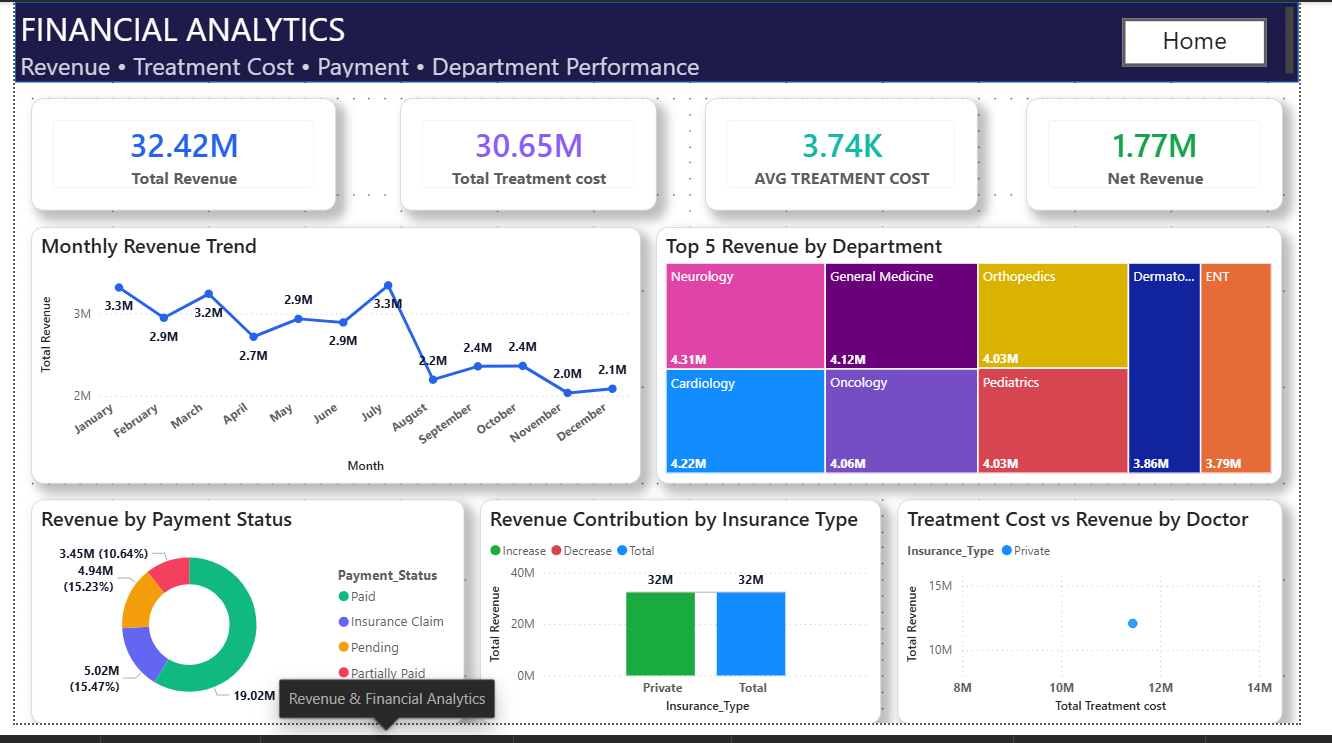

The page's visual inventory and layout, read from the dashboard file:
{"tool":"powerbi","page":{"name":"Revenue & Financial Analytics","canvas":[1280,720],"ordinal":2},"visuals":[{"type":"shape","box":[0,0,1280,80],"z":0},{"type":"textbox","box":[0,0,1280,80],"z":1000},{"type":"cardVisual","fields":{"Data":["healthcare_ai_etl healthcare_clean.Total Revenue"]},"box":[16,96,304,112],"z":2000},{"type":"cardVisual","fields":{"Data":["healthcare_ai_etl healthcare_clean.Total Treatment cost"]},"box":[384,96,256,112],"z":3000},{"type":"cardVisual","fields":{"Data":["healthcare_ai_etl healthcare_clean.AVG TREATMENT COST"]},"box":[688,96,272,112],"z":4000},{"type":"cardVisual","fields":{"Data":["healthcare_ai_etl etl_quality_log.Net Revenue"]},"box":[1008,96,256,112],"z":5000},{"type":"lineChart","title":"Monthly Revenue Trend","fields":{"Category":["healthcare_ai_etl healthcare_clean.Admission_Date.Variation.Date Hierarchy.Month"],"Y":["healthcare_ai_etl healthcare_clean.Total Revenue"]},"box":[16,224,608,256],"z":6000},{"type":"treemap","title":"Top 5 Revenue by Department","fields":{"Group":["healthcare_ai_etl healthcare_clean.Department"],"Values":["healthcare_ai_etl healthcare_clean.Total Revenue"]},"box":[640,224,624,256],"z":7000},{"type":"donutChart","title":"Revenue by Payment Status","fields":{"Category":["healthcare_ai_etl healthcare_clean.Payment_Status"],"Y":["healthcare_ai_etl healthcare_clean.Total Revenue"]},"box":[16,496,432,224],"z":8000},{"type":"waterfallChart","title":"Revenue Contribution by Insurance Type","fields":{"Category":["healthcare_ai_etl healthcare_clean.Insurance_Type"],"Y":["healthcare_ai_etl healthcare_clean.Total Revenue"]},"box":[464,496,400,224],"z":9000},{"type":"scatterChart","title":"Treatment Cost vs Revenue by Doctor","fields":{"Series":["healthcare_ai_etl healthcare_clean.Insurance_Type"],"X":["healthcare_ai_etl healthcare_clean.Total Treatment cost"],"Y":["healthcare_ai_etl healthcare_clean.Total Revenue"]},"box":[880,496,384,224],"z":10000},{"type":"textbox","box":[1104,16,144,48],"z":10001},{"type":"actionButton","box":[1104,16,144,48],"z":10002}]}

Visuals, with their boxes in screenshot pixels (x1, y1, x2, y2), scaled from the page's 1280x720 canvas onto the 1332x743 screenshot:
shape: <box>0,0,1331,83</box>
textbox: <box>0,0,1331,83</box>
cardVisual - healthcare_ai_etl healthcare_clean.Total Revenue: <box>17,99,333,215</box>
cardVisual - healthcare_ai_etl healthcare_clean.Total Treatment cost: <box>400,99,666,215</box>
cardVisual - healthcare_ai_etl healthcare_clean.AVG TREATMENT COST: <box>716,99,999,215</box>
cardVisual - healthcare_ai_etl etl_quality_log.Net Revenue: <box>1049,99,1315,215</box>
"Monthly Revenue Trend" lineChart: <box>17,231,649,495</box>
"Top 5 Revenue by Department" treemap: <box>666,231,1315,495</box>
"Revenue by Payment Status" donutChart: <box>17,512,466,742</box>
"Revenue Contribution by Insurance Type" waterfallChart: <box>483,512,899,742</box>
"Treatment Cost vs Revenue by Doctor" scatterChart: <box>916,512,1315,742</box>
textbox: <box>1149,17,1299,66</box>
actionButton: <box>1149,17,1299,66</box>
